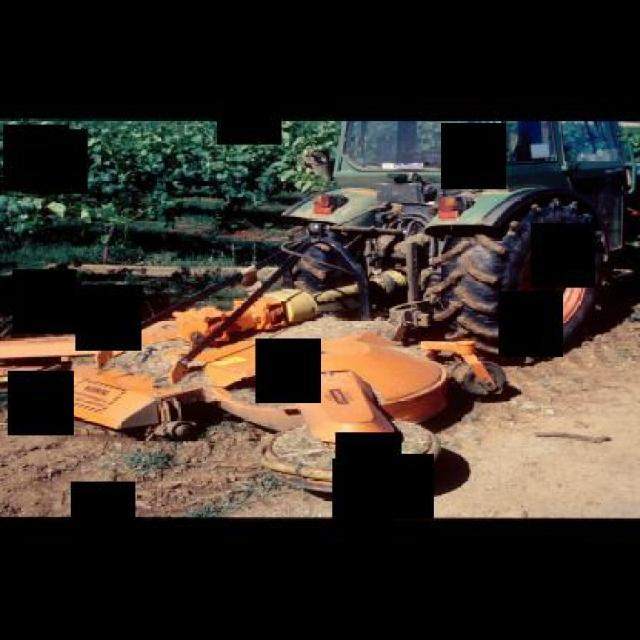Tratores - v5 YOLO V8L 2024-11-13: (288, 117, 639, 372)
